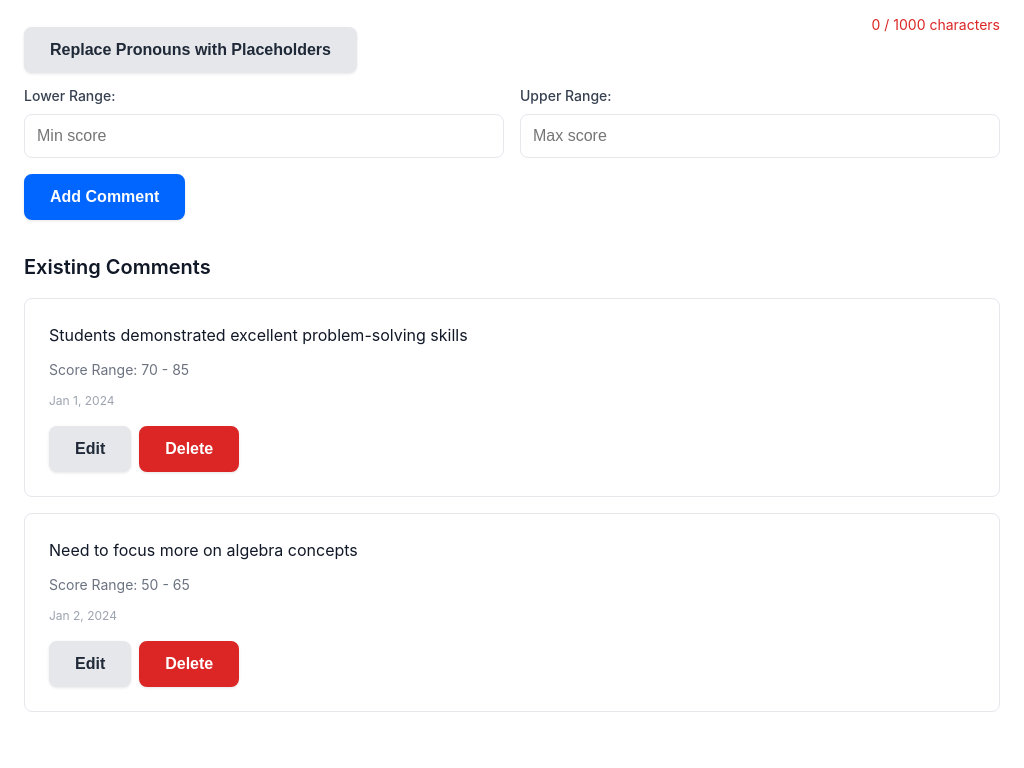
Test: OutcomeCommentsModal › User Story 3: Edit outcome comment › should cancel edit mode when cancel button is clicked
(page scrolled)
Click the button "Edit" below "Jan 1, 2024": (90, 449) [49,426,131,472]
(page scrolled)
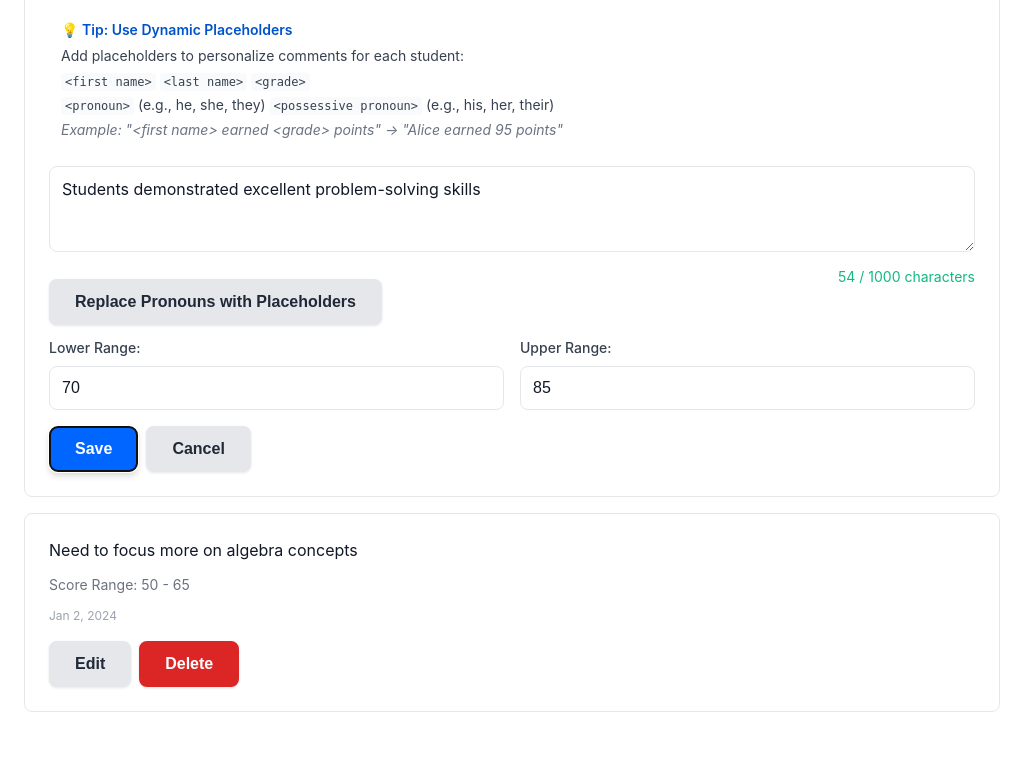
Click the button "Cancel": (199, 449) [146,426,251,472]
(page scrolled)
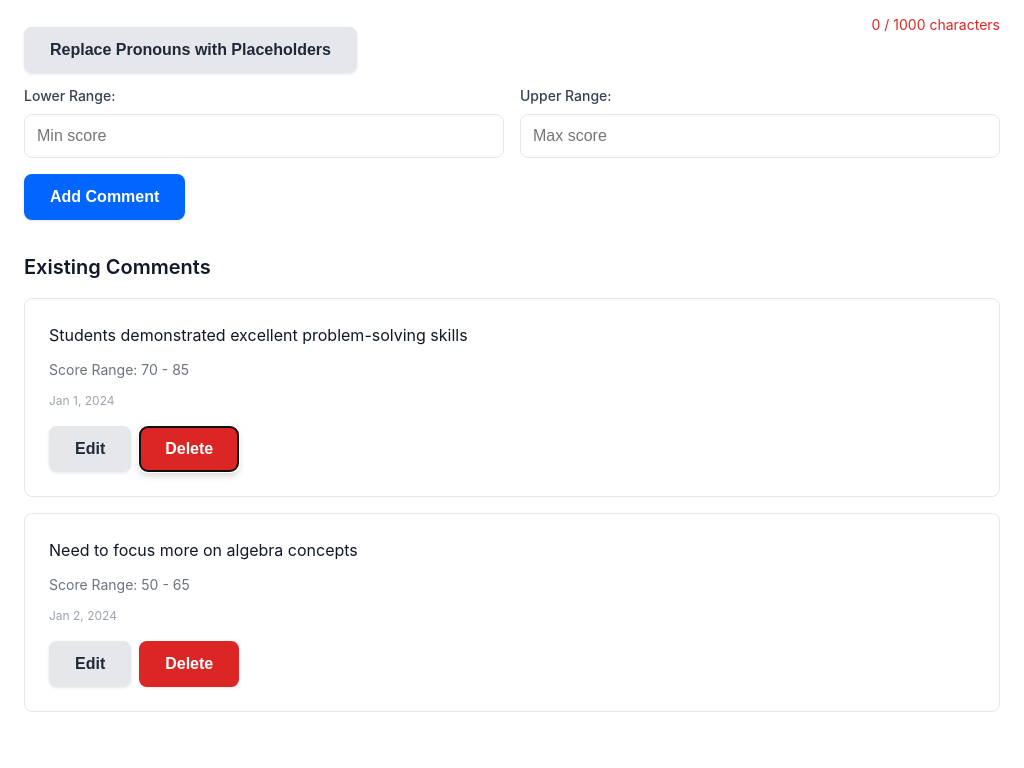
Result: the text "Students demonstrated excellent problem-solving skills" is shown at [49,325,468,345]
